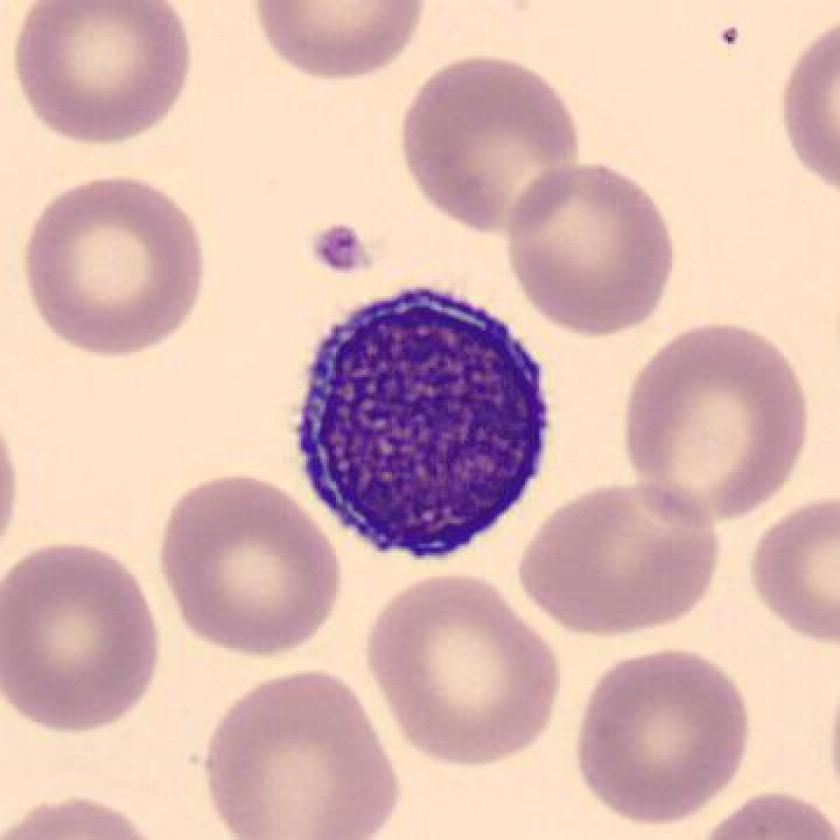lymphocyte: (281, 274, 566, 577)
